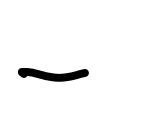minus: (19, 67, 89, 81)
